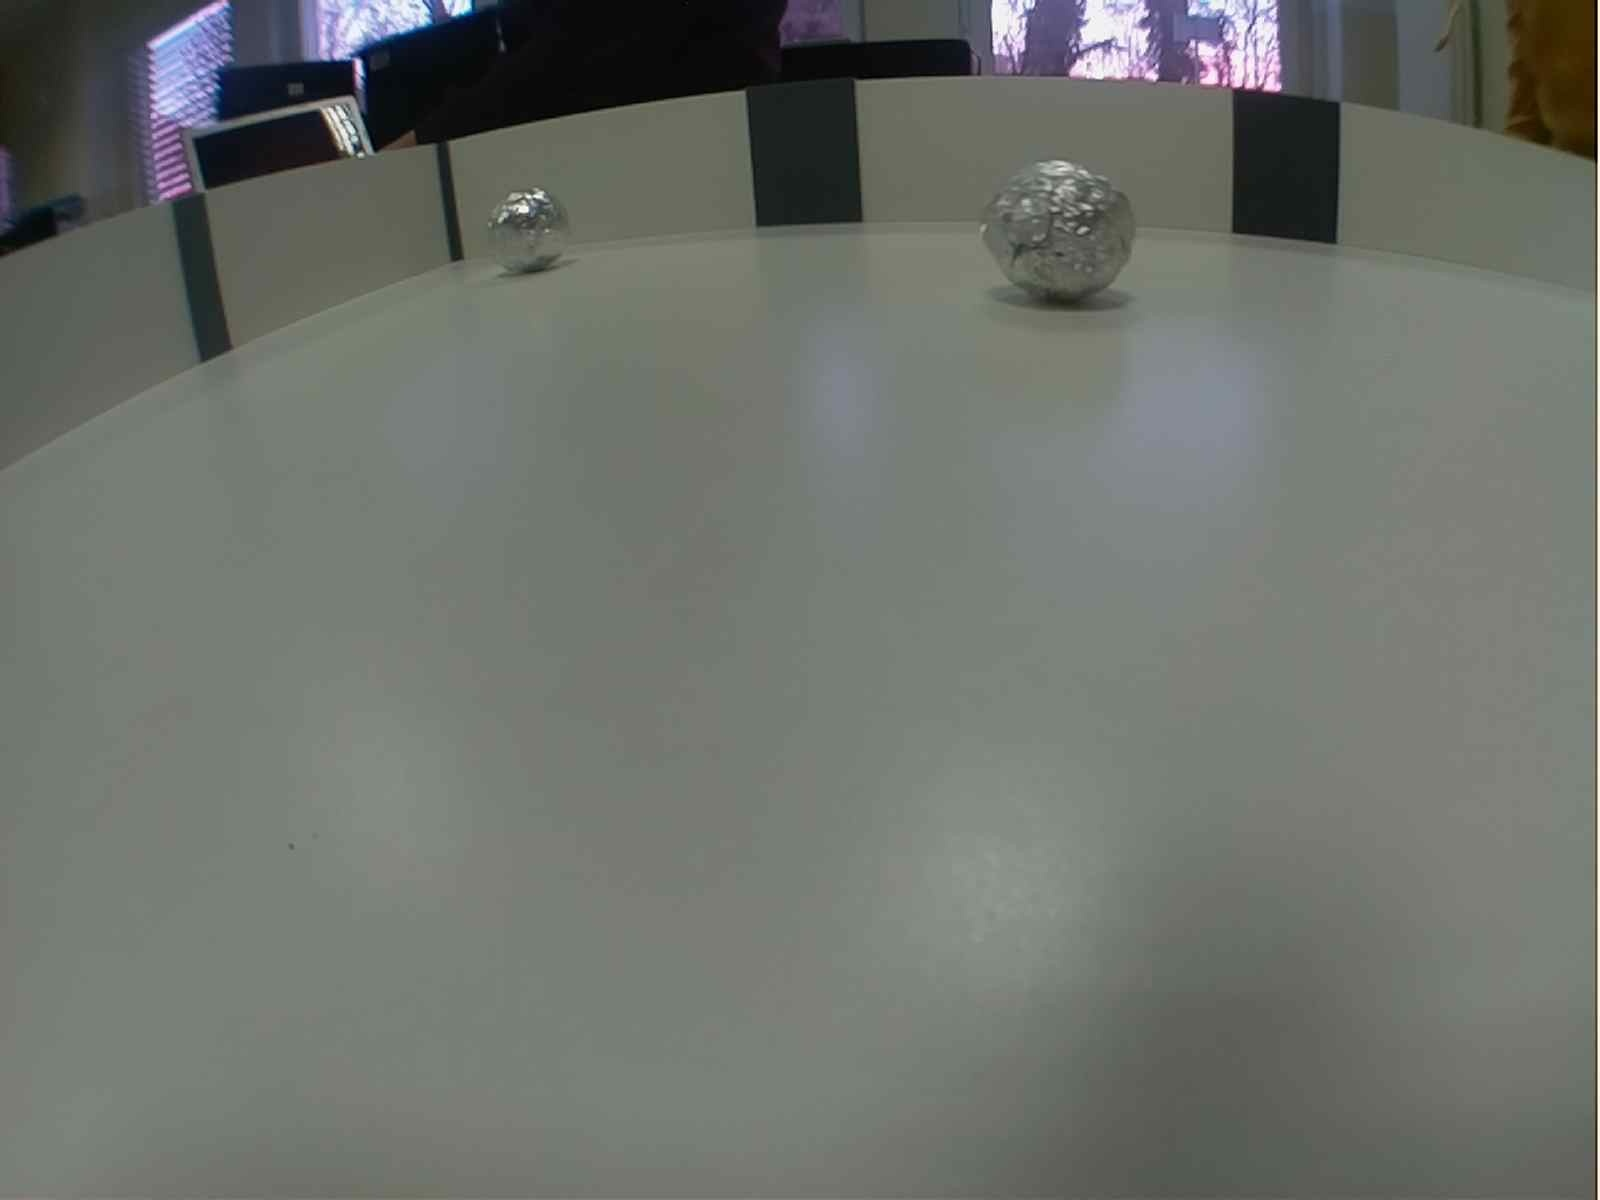bianca: (976, 153, 1141, 313), (483, 184, 580, 279)
